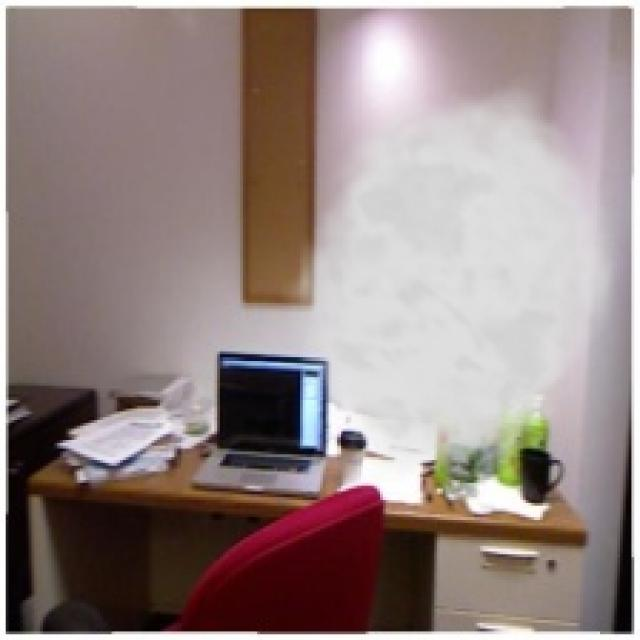smoke: (280, 71, 626, 483)
